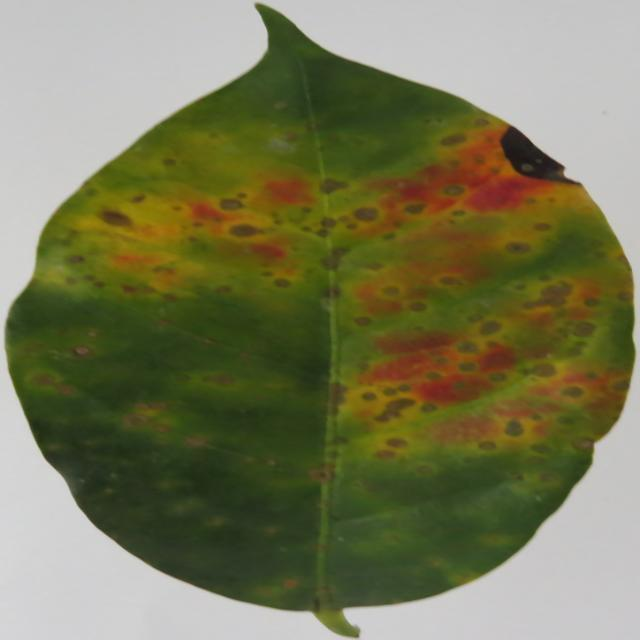DeficienciaNutricional-Fosforo: (7, 5, 634, 636)
